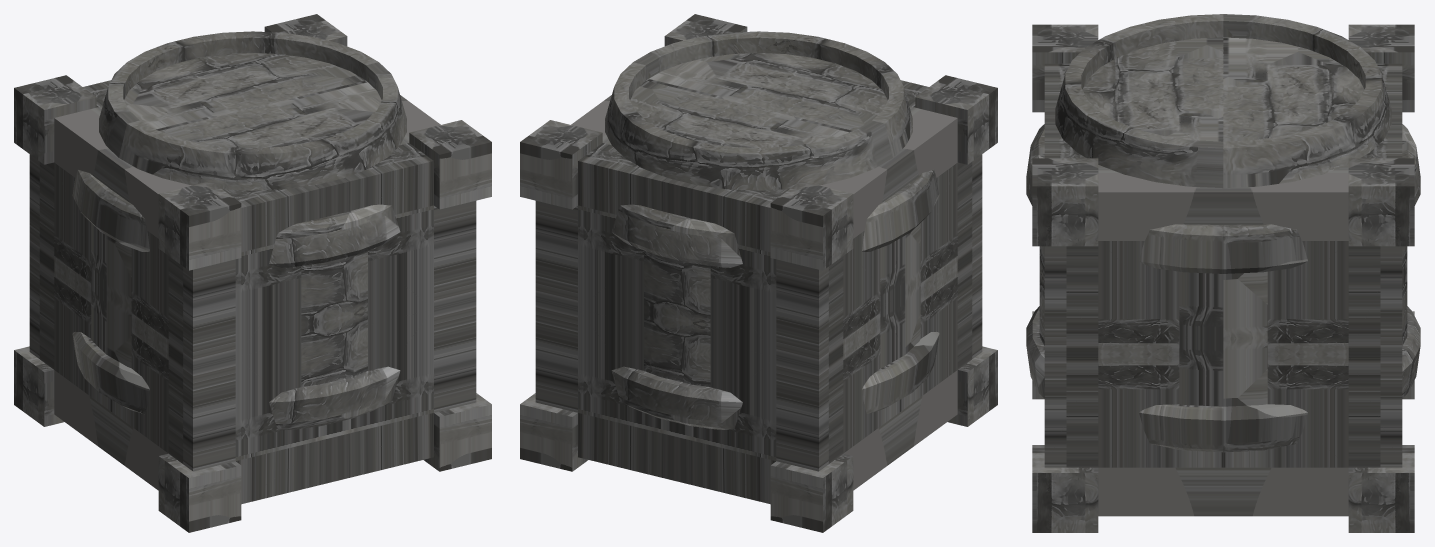
File: Crate and barrell Smaller.fbx
3 renders of one model, left to right at view 1: azimuth 30°, elevation 25°; view 2: azimuth 150°, elevation 25°; view 3: azimuth 270°, elevation 25°, orthographic. The views are drawn at different scales.
Parts seen in each view (by area): view 1: Crate_Low, Barrell_Low; view 2: Crate_Low, Barrell_Low; view 3: Crate_Low, Barrell_Low.
Boxes of the visible parts, x1,y1,x2,y2 form: Crate_Low: [14, 14, 491, 532]; Barrell_Low: [72, 31, 406, 429]; Crate_Low: [520, 14, 997, 532]; Barrell_Low: [605, 31, 939, 429]; Crate_Low: [1032, 24, 1414, 532]; Barrell_Low: [1026, 14, 1420, 452].
Size of the model in its own units: 88.93 by 91.79 by 88.44.
